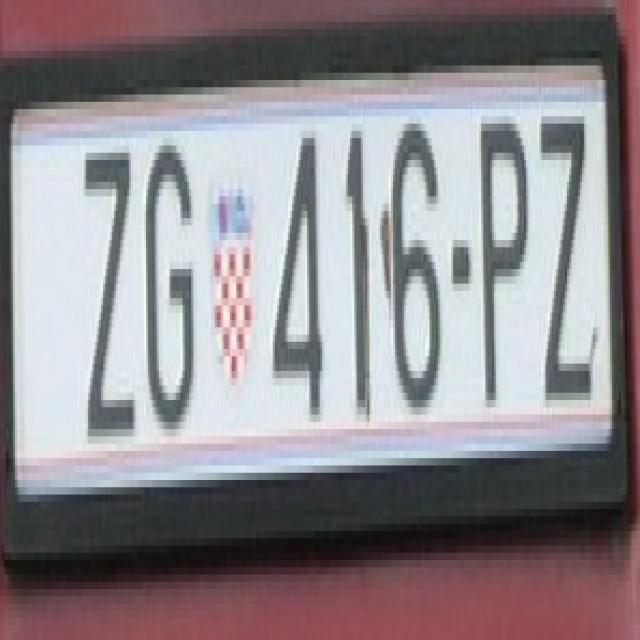1: (339, 116, 374, 414)
4: (266, 116, 324, 414)
6: (388, 116, 446, 414)
G: (142, 138, 198, 422)
P: (472, 116, 520, 400)
Z: (535, 109, 595, 400), (77, 138, 131, 422)
